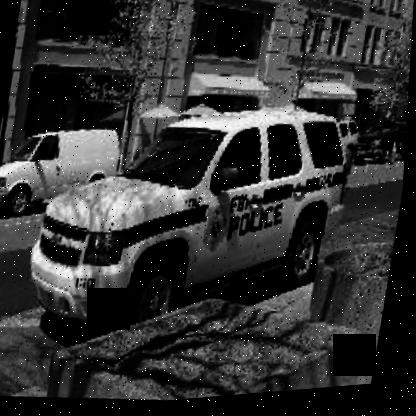emergency: (7, 24, 404, 388)
